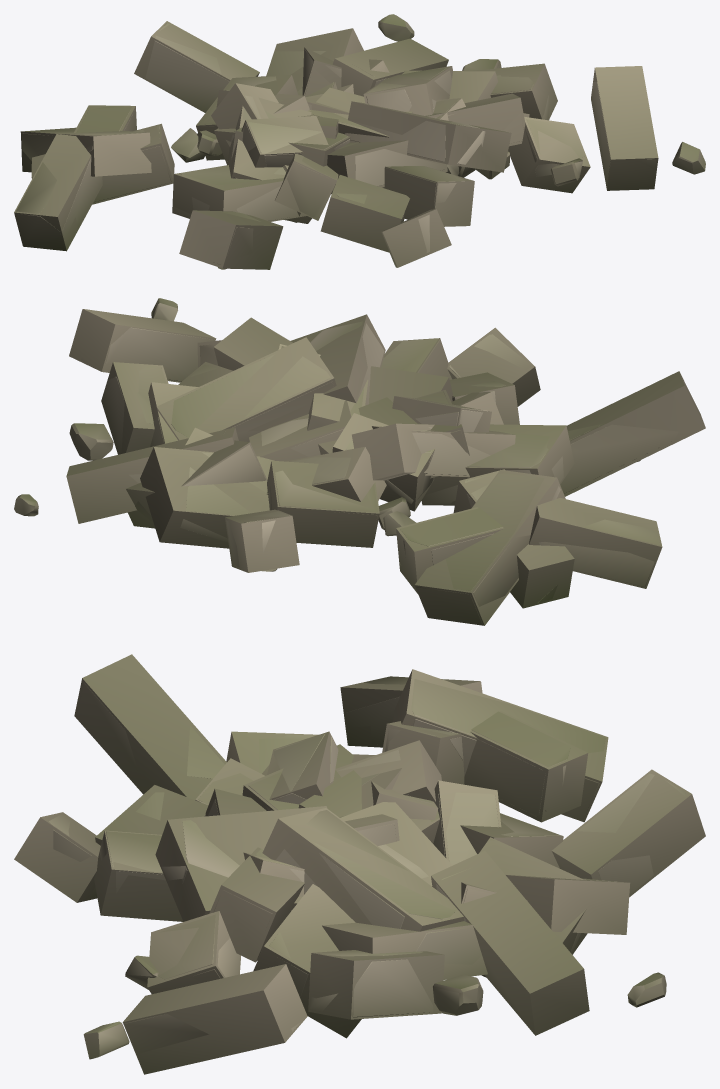
Rendered from aqueduct_rubble.glb.
The picture shows the model from 3 angles, top to bottom: view 1: azimuth 30°, elevation 25°; view 2: azimuth 150°, elevation 25°; view 3: azimuth 270°, elevation 25°; orthographic projection. The views are drawn at different scales.
Visible parts, largest first — view 1: aqueduct_rubble_far, aqueduct_rubble; view 2: aqueduct_rubble_far, aqueduct_rubble; view 3: aqueduct_rubble_far, aqueduct_rubble.
Part boxes in pixels (<box>): aqueduct_rubble_far: <box>14,21,658,269</box>; aqueduct_rubble: <box>16,14,705,269</box>; aqueduct_rubble_far: <box>66,309,705,625</box>; aqueduct_rubble: <box>14,298,700,624</box>; aqueduct_rubble_far: <box>14,654,705,1074</box>; aqueduct_rubble: <box>49,676,685,1059</box>.
Size of the model in its own units: 20.63 by 3.98 by 16.31.
